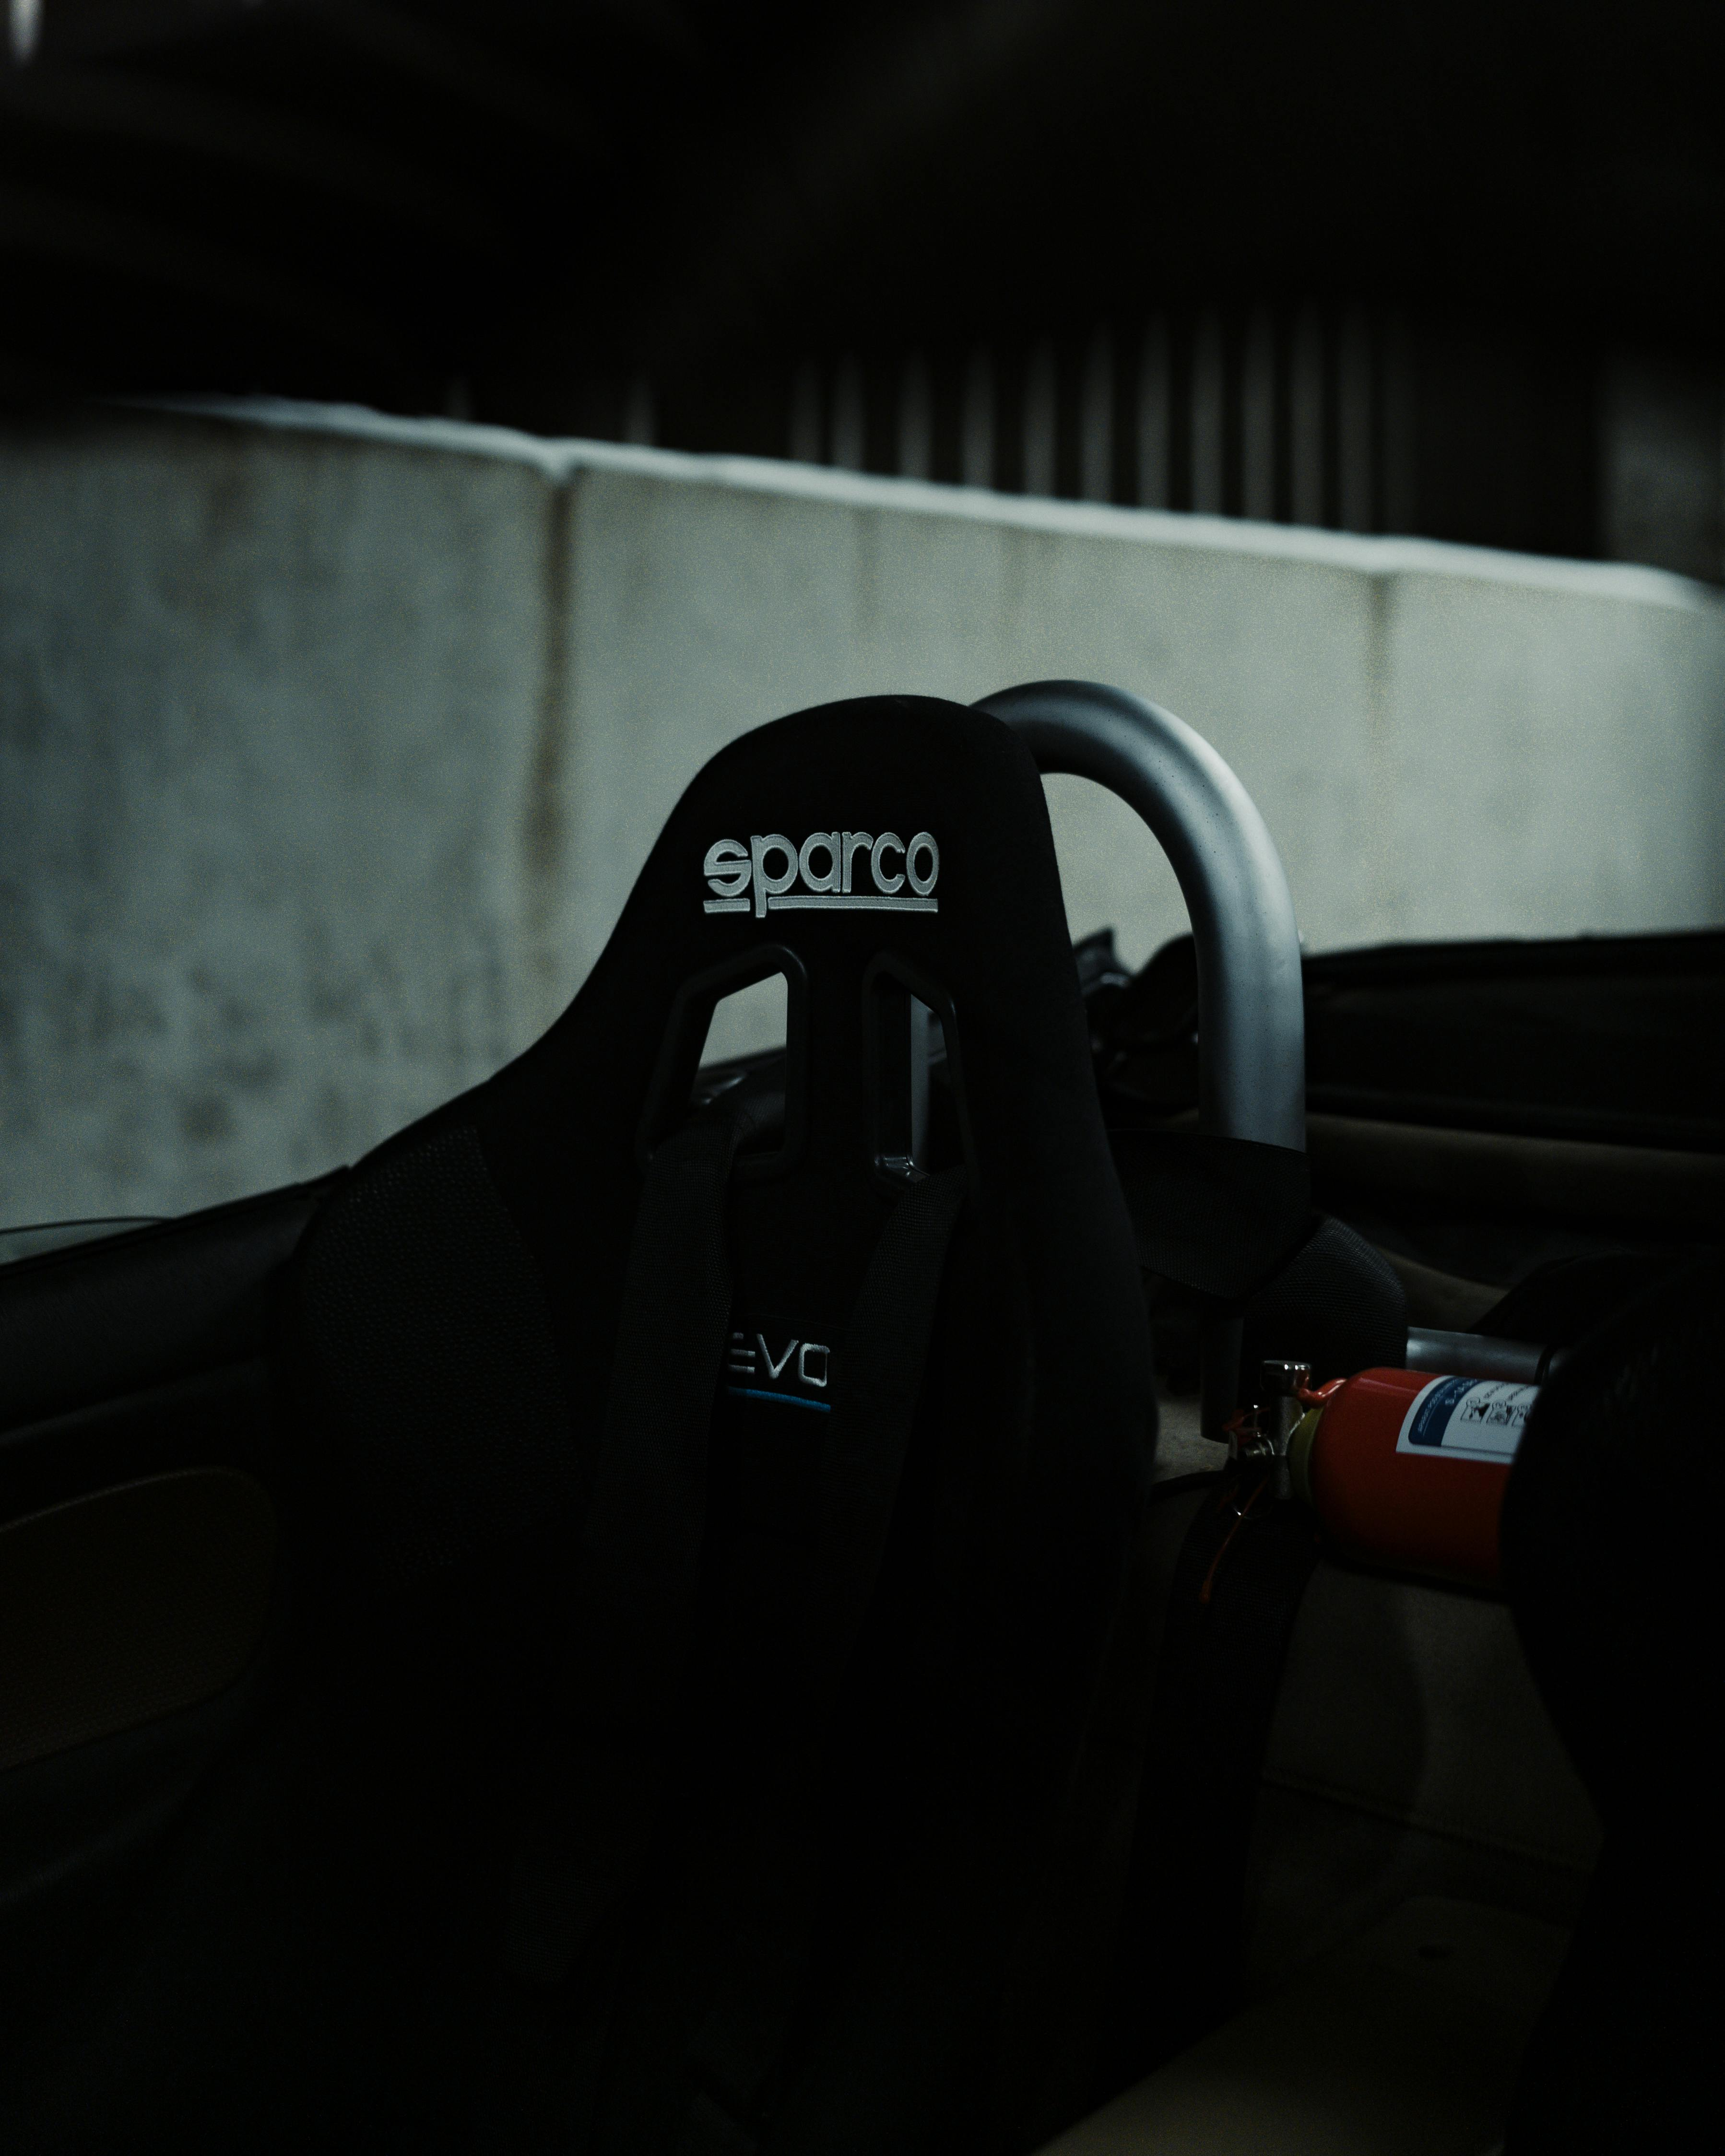extintor: (1146, 1341, 1545, 1605)
